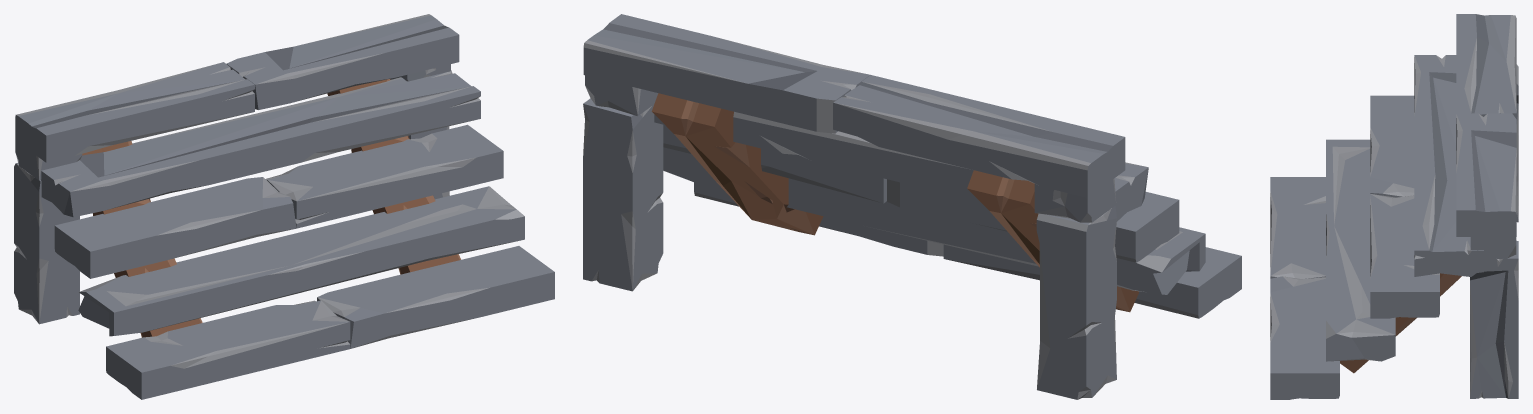
The model's file is mesh_stone_stairs_small.fbx.
3 renders of one model, left to right at view 1: azimuth 30°, elevation 25°; view 2: azimuth 150°, elevation 25°; view 3: azimuth 270°, elevation 25°, orthographic. The views are drawn at different scales.
Parts seen in each view (by area): view 1: mesh_stone_stairs_small; view 2: mesh_stone_stairs_small; view 3: mesh_stone_stairs_small.
Boxes of the visible parts, x1,y1,x2,y2 form: mesh_stone_stairs_small: (14, 14, 554, 399); mesh_stone_stairs_small: (583, 14, 1241, 399); mesh_stone_stairs_small: (1270, 14, 1518, 399).
Bounding box in the file's own units: 2 × 0.9043 × 1.07.
